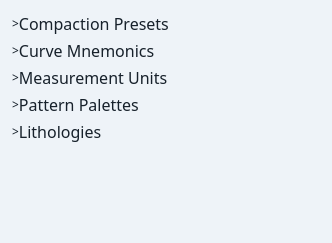
it: Data Manager templates tree › expanding one section does not expand siblings
Click the button named "Expand": (15, 24) [12,18,19,30]
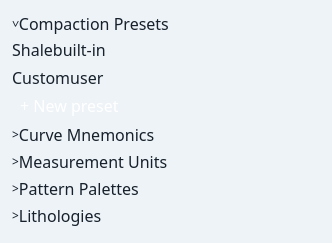
Now the text "Custom" is shown, box [12,67,70,89]
